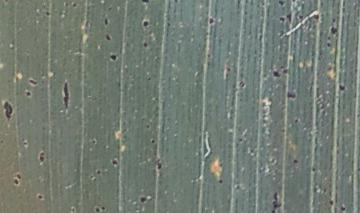tarspot: (59, 76, 75, 112), (270, 187, 286, 213), (1, 97, 16, 122), (283, 87, 300, 102), (107, 50, 121, 64), (328, 23, 341, 38), (101, 14, 112, 29), (290, 152, 300, 168), (25, 75, 38, 87), (205, 14, 217, 27), (337, 81, 348, 95), (271, 68, 282, 82), (38, 146, 46, 165), (311, 9, 321, 24), (138, 192, 149, 205), (214, 176, 227, 187), (102, 30, 113, 42), (236, 78, 248, 89), (296, 12, 308, 23), (336, 203, 349, 213), (154, 158, 163, 172), (88, 135, 99, 146), (110, 156, 121, 167), (36, 189, 46, 201), (147, 136, 159, 146), (277, 13, 287, 25), (287, 10, 295, 25), (142, 17, 150, 31), (141, 39, 151, 50), (309, 164, 320, 174), (95, 164, 102, 179), (20, 138, 30, 148), (43, 8, 53, 18), (224, 64, 233, 75), (325, 197, 336, 206), (23, 89, 33, 98), (138, 1, 156, 6), (11, 177, 22, 185), (59, 1, 70, 9), (274, 1, 288, 7), (100, 201, 107, 213), (69, 204, 78, 213), (71, 1, 80, 10), (144, 121, 152, 131), (292, 116, 300, 126), (14, 170, 24, 178), (1, 133, 5, 147), (93, 205, 100, 213), (324, 41, 332, 48), (172, 1, 183, 5)
